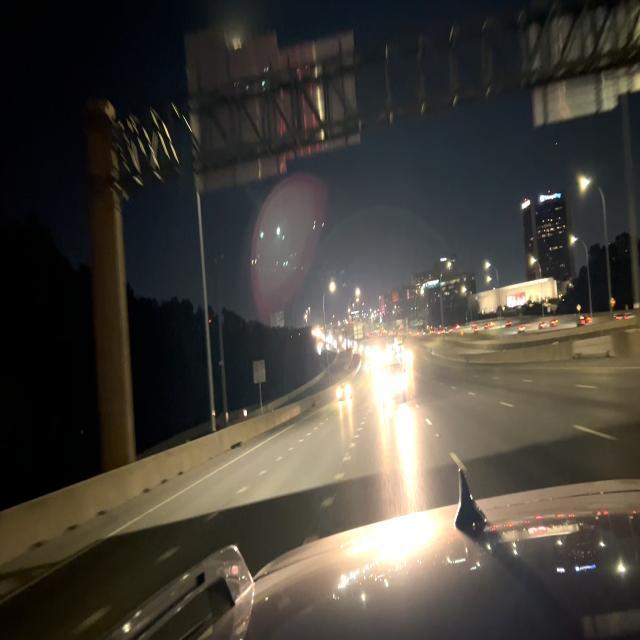back-of-sign: (182, 24, 362, 197), (519, 0, 640, 128), (251, 354, 267, 390)
